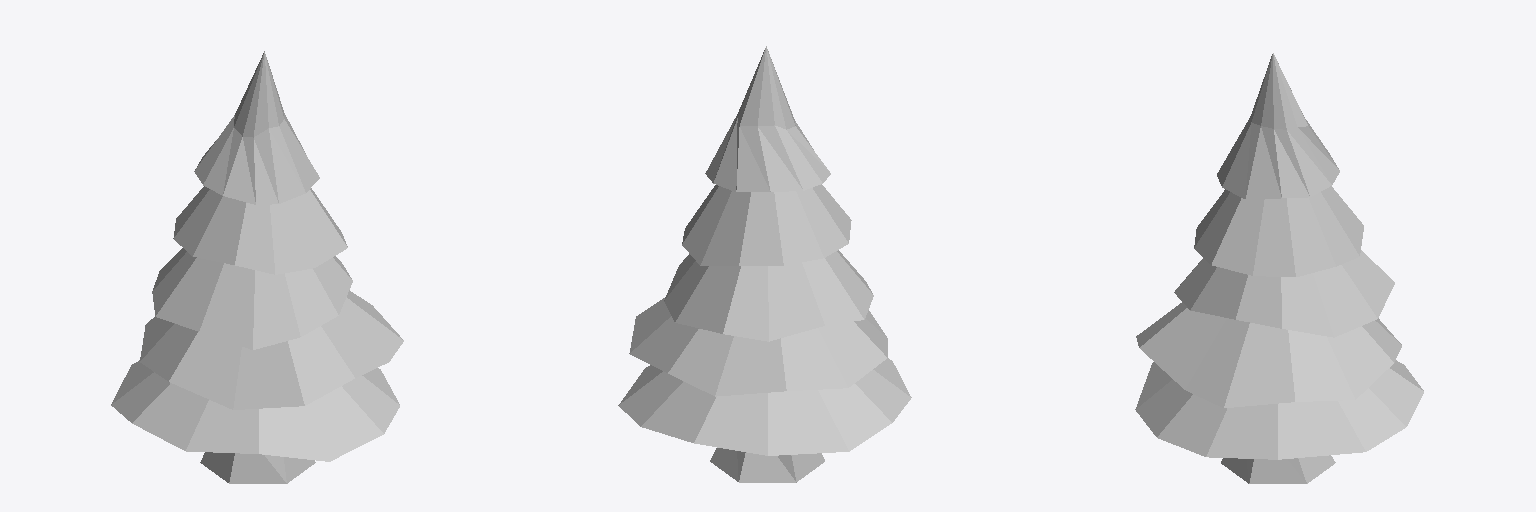
The model's file is tree_pine_b.obj.
3 renders of one model, left to right at view 1: azimuth 30°, elevation 25°; view 2: azimuth 150°, elevation 25°; view 3: azimuth 270°, elevation 25°, orthographic.
Visible parts, largest first — view 1: spruce; view 2: spruce; view 3: spruce.
Boxes of the visible parts, <box> form: spruce: <box>111,51,403,483</box>; spruce: <box>618,46,911,482</box>; spruce: <box>1135,53,1423,483</box>.
Bounding box in the file's own units: 5.14 × 8.15 × 5.18.